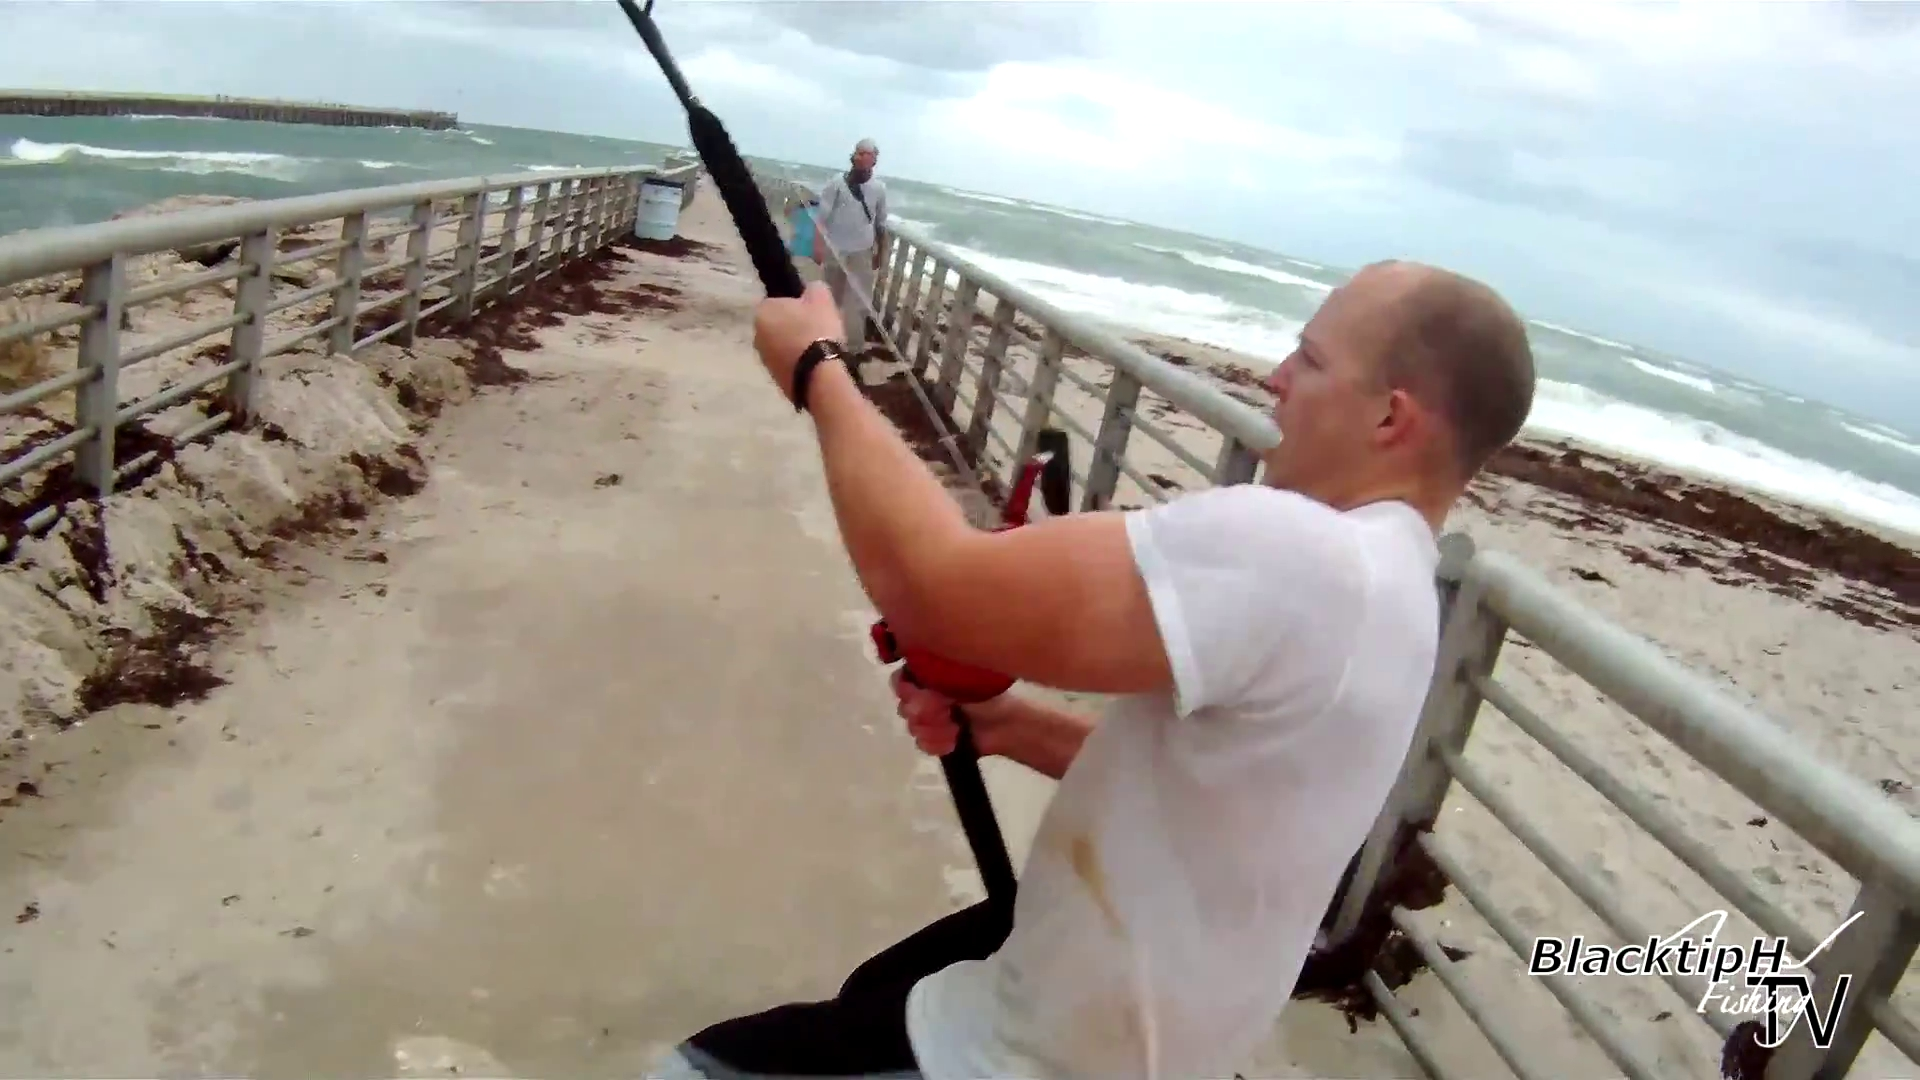person: (753, 257, 1537, 1075)
